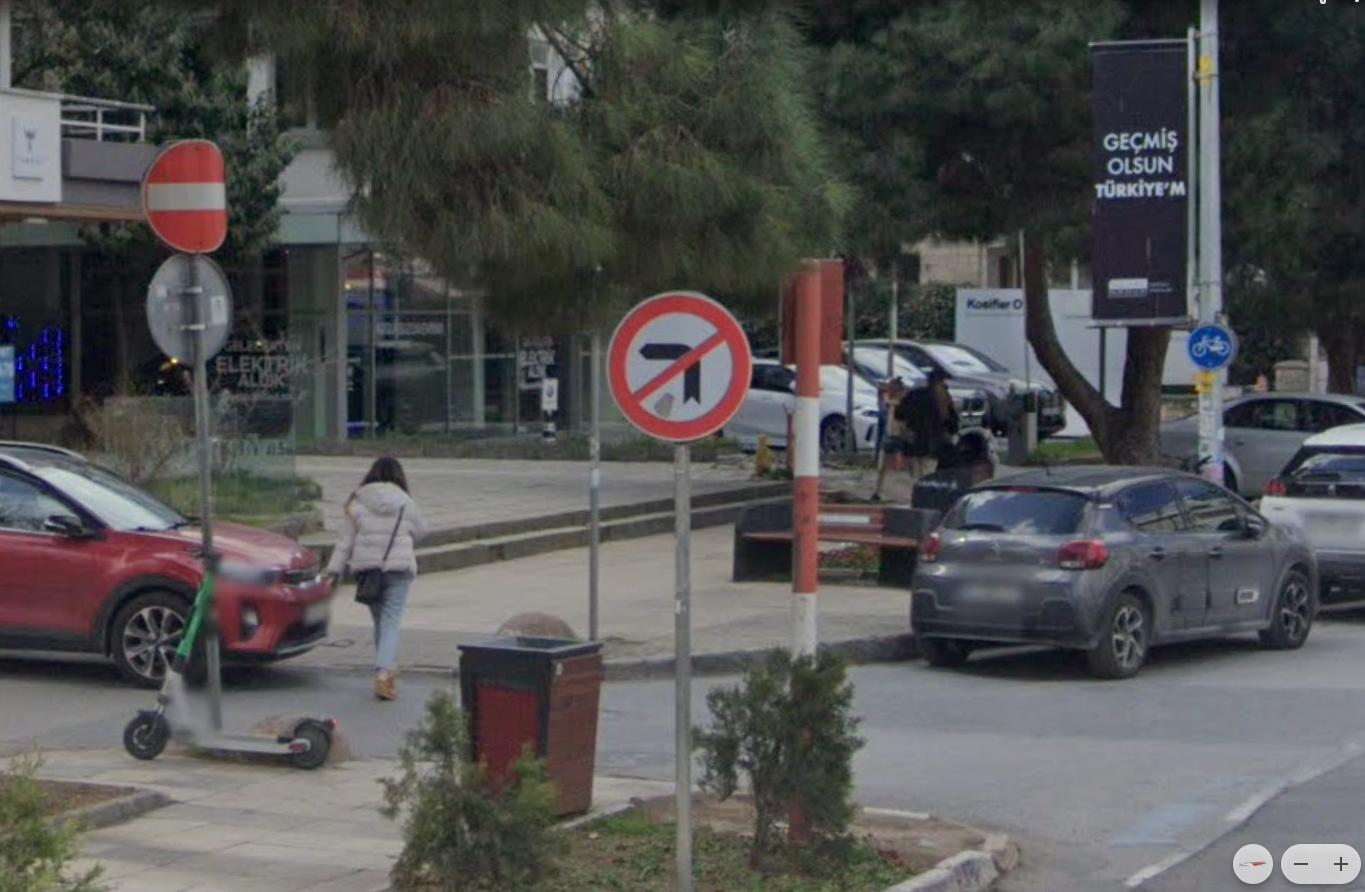leftturnsareforbidden: (609, 294, 748, 439)
